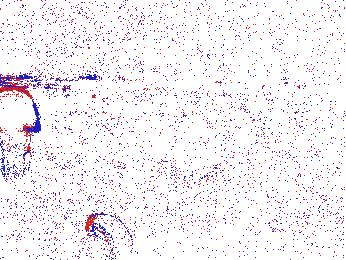flame jellyfish: (1, 82, 43, 183), (215, 206, 286, 260), (75, 213, 134, 260)
